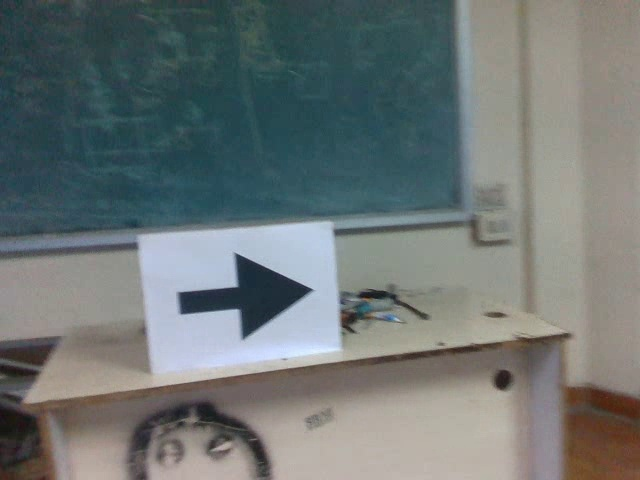Right: (161, 249, 318, 342)
